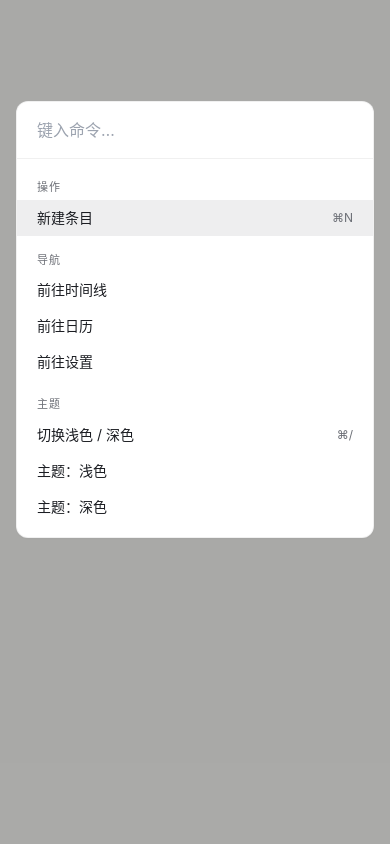
Test: <CommandPalette /> › 输入过滤命令
The image size is (390, 844).
Type "日历" into the field with test id "cmdk-input" at [195, 131], box [17,102,373,159]
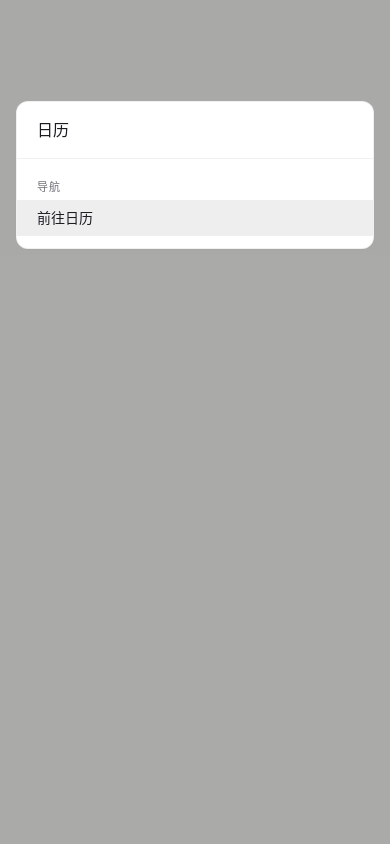
Expected: the option with test id "cmdk-item-go-calendar" is shown, [17,200,373,236]
Expected: the option with test id "cmdk-item-go-timeline" is gone
